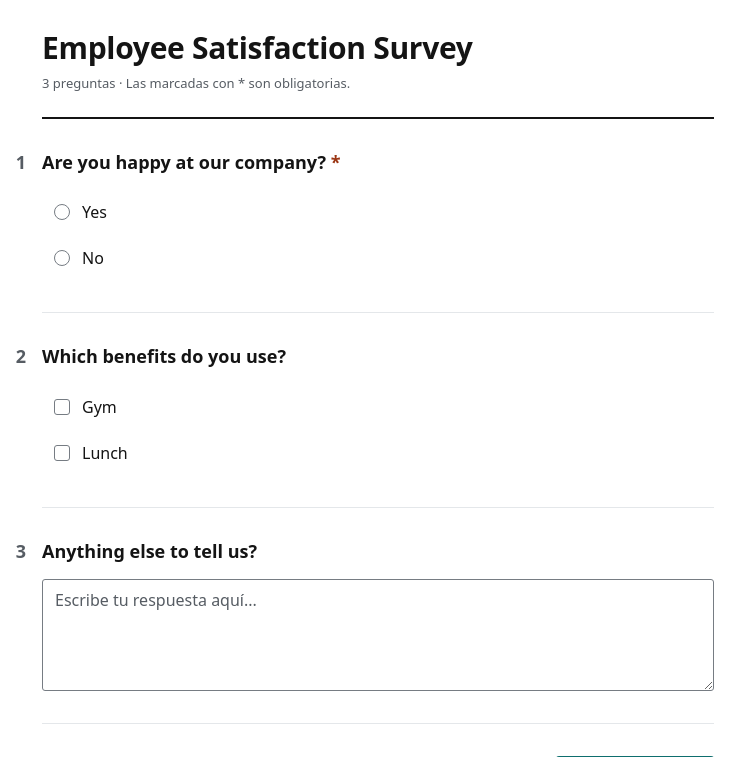
Test: SurveyAnsweringPage answered-IP guard (REQ-FE-035, REQ-FE-023, REQ-FE-024) › AC-FE-035-9 / AC-FE-023-6 / DEV-007: a submission rejected with 403 replaces the form with the answered screen and no toast
Click the radio button named "Yes" next to "Yes": (62, 212) [54,204,70,220]
(page scrolled)
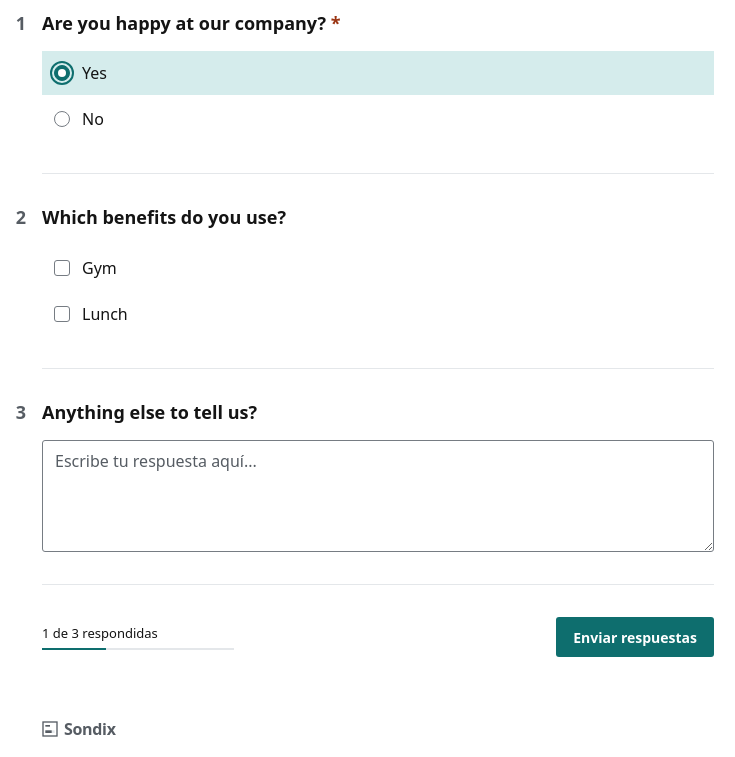
Click the button "Enviar respuestas": (635, 637) [556,617,714,657]
(page scrolled)
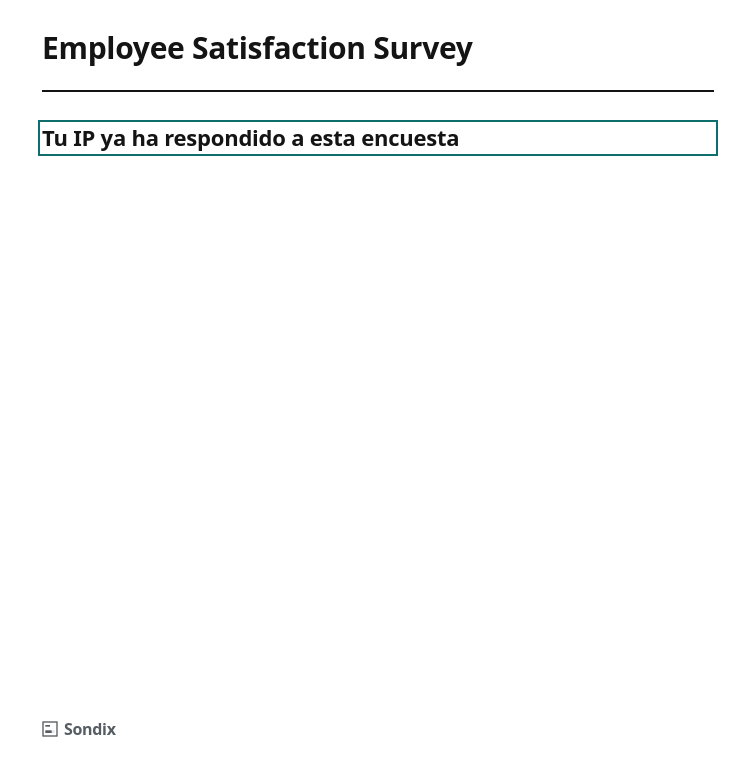
Now the button "Enviar respuestas" is gone
